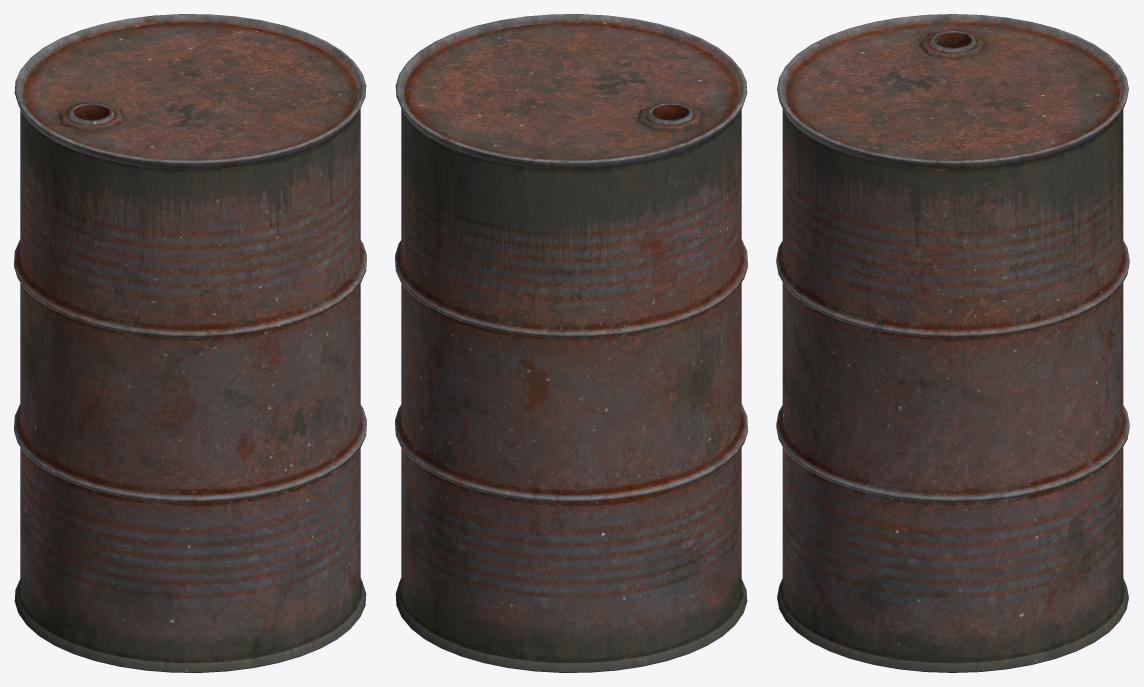
The model's file is oil_drum.glb.
3 views of the same model, side by side, from view 1: azimuth 30°, elevation 25°; view 2: azimuth 150°, elevation 25°; view 3: azimuth 270°, elevation 25° (orthographic).
Parts seen in each view (by area): view 1: OilDrum; view 2: OilDrum; view 3: OilDrum.
Part boxes in pixels (x1,y1,x2,y2): OilDrum: (14,14,366,672); OilDrum: (395,14,747,672); OilDrum: (776,14,1129,672).
Bounding box in the file's own units: 73.96 × 118 × 73.96.
Materials: 1 (1 with a texture image).
